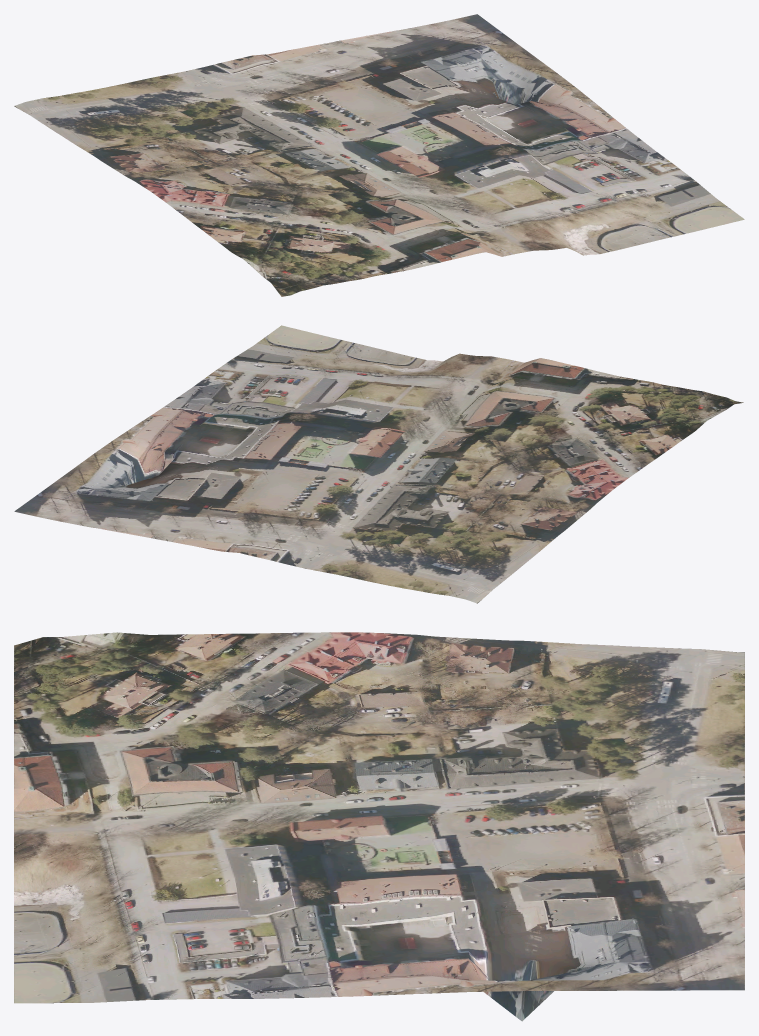
File: CM_Terrain_24486363_6820408.fbx
The picture shows the model from 3 angles, top to bottom: view 1: azimuth 30°, elevation 25°; view 2: azimuth 150°, elevation 25°; view 3: azimuth 270°, elevation 25°; orthographic projection. The views are drawn at different scales.
Parts seen in each view (by area): view 1: CM_Terrain_24486363_6820408_LOD0; view 2: CM_Terrain_24486363_6820408_LOD0; view 3: CM_Terrain_24486363_6820408_LOD0.
Boxes of the visible parts, <box> form: CM_Terrain_24486363_6820408_LOD0: <box>14,14,744,296</box>; CM_Terrain_24486363_6820408_LOD0: <box>14,325,743,603</box>; CM_Terrain_24486363_6820408_LOD0: <box>14,632,744,1021</box>.
Size of what is drawn, in the model's own units: 205 by 34.53 by 205.
